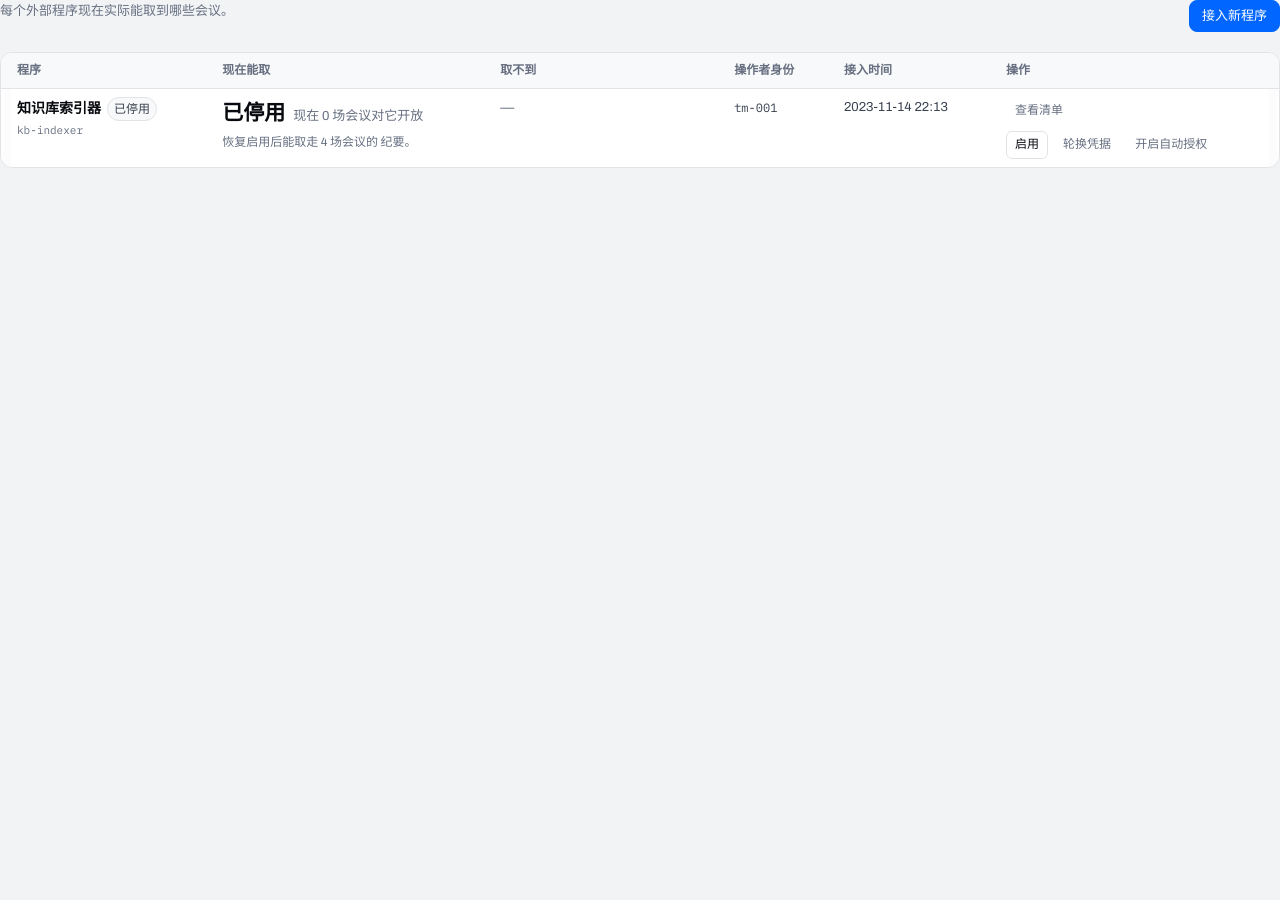
Test: 「现在可取走 N 场会议的 X」 › 「停用立刻生效 / 授权没删」只在按下停用的那一刻说，不常驻在卡片上
This screenshot has width=1280, height=900.
expect the cell with test id "reach-kb-indexer" shows "已停用": met, box [222,102,285,124]
expect the cell with test id "reach-kb-indexer" shows "现在 0 场会议对它开放": met, box [293,109,423,123]
那件事在做决定的那一刻说得清清楚楚（confirm-disable 那条测试断言它的内容）
Click the button "启用" at (1027, 145), box [1006,131,1048,159]
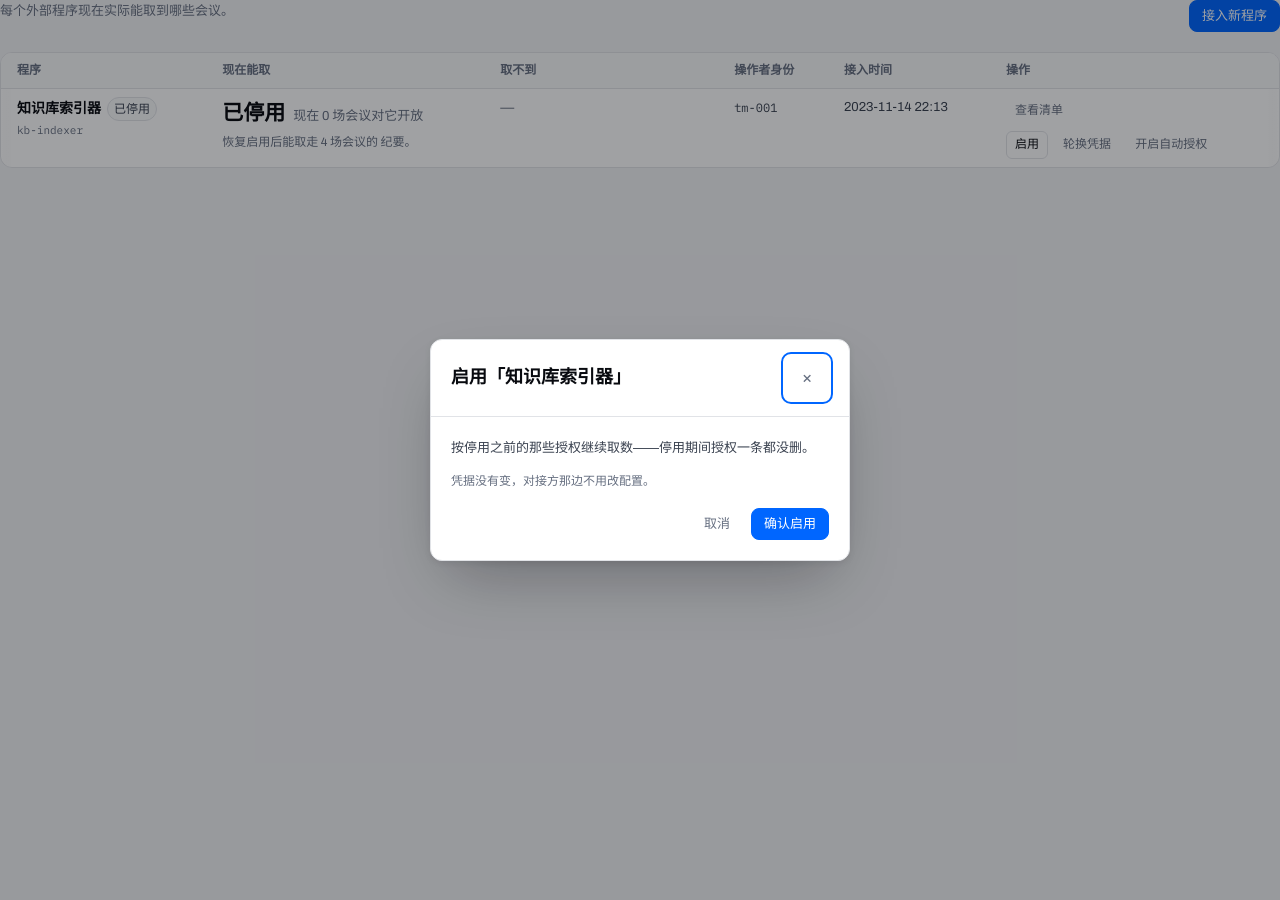
expect the element with test id "confirm-enable" shows "授权一条都没删": met, box [451,441,815,455]
